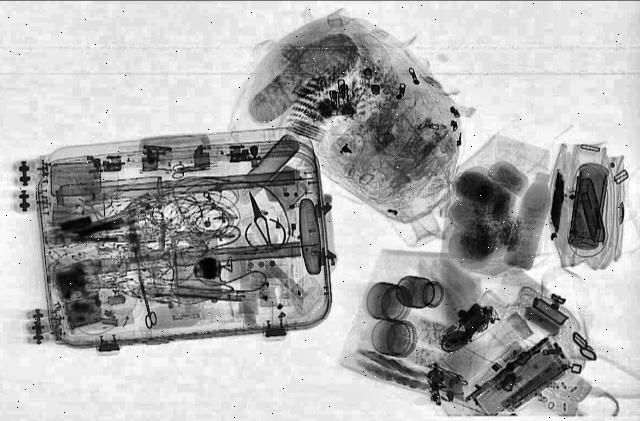Scissors: (232, 188, 292, 252), (132, 271, 162, 329), (169, 161, 213, 177)
